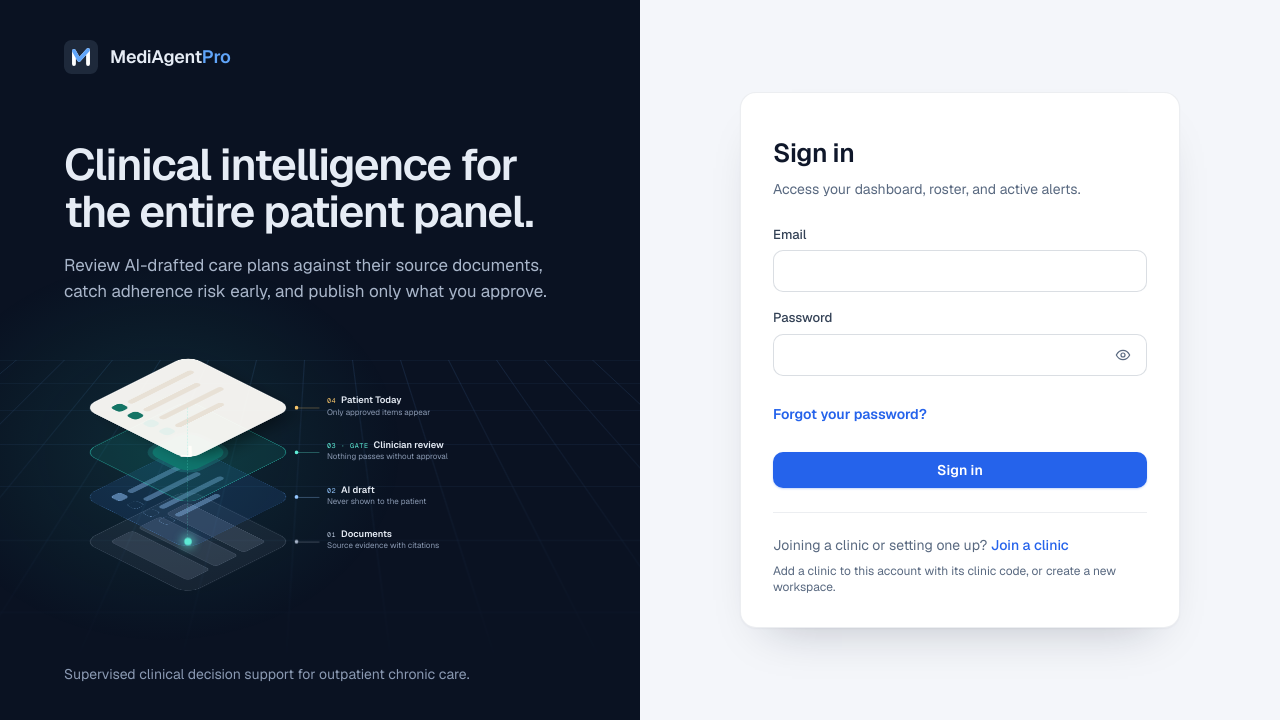
Test: Clinician login page › keeps the user on the sign-in form for invalid credentials
This screenshot has width=1280, height=720.
Type "doctor@example.com" into the field labelled "Email". click: (960, 271)
box: [773,250,1147,292]
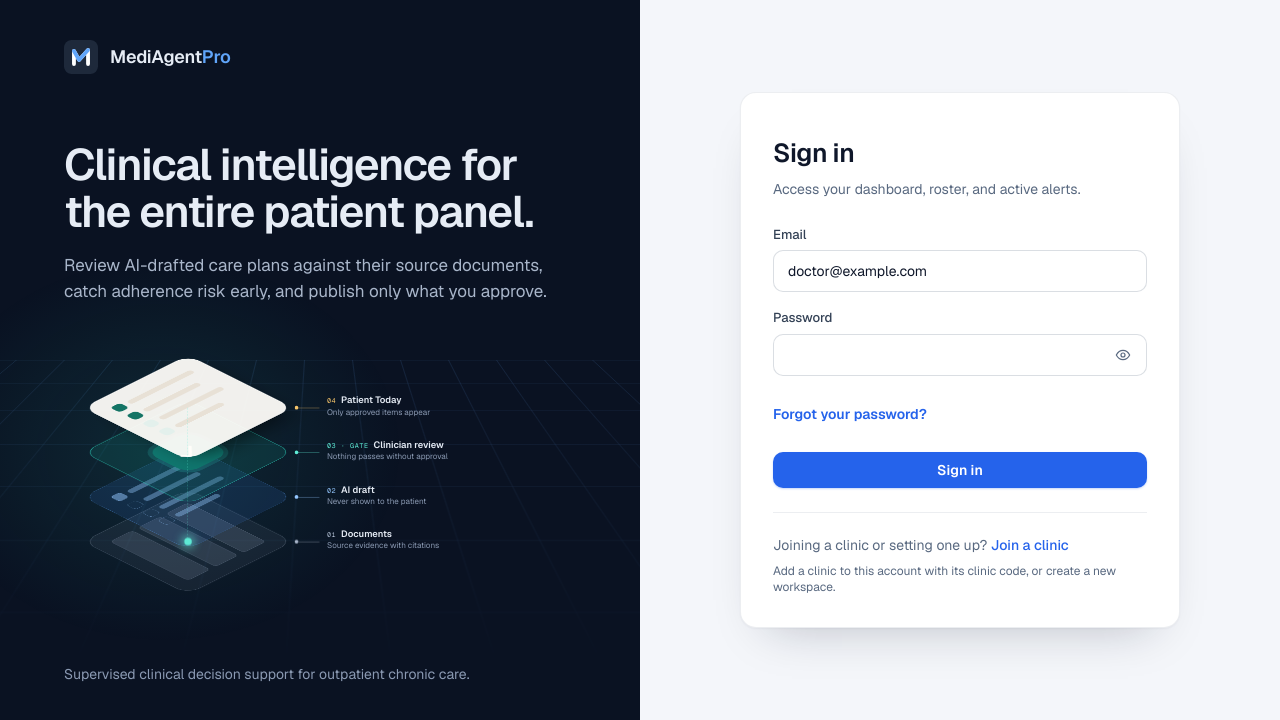
Type "wrong-password" into the password field labelled "Password". click: (960, 355)
box: [773,334,1147,376]
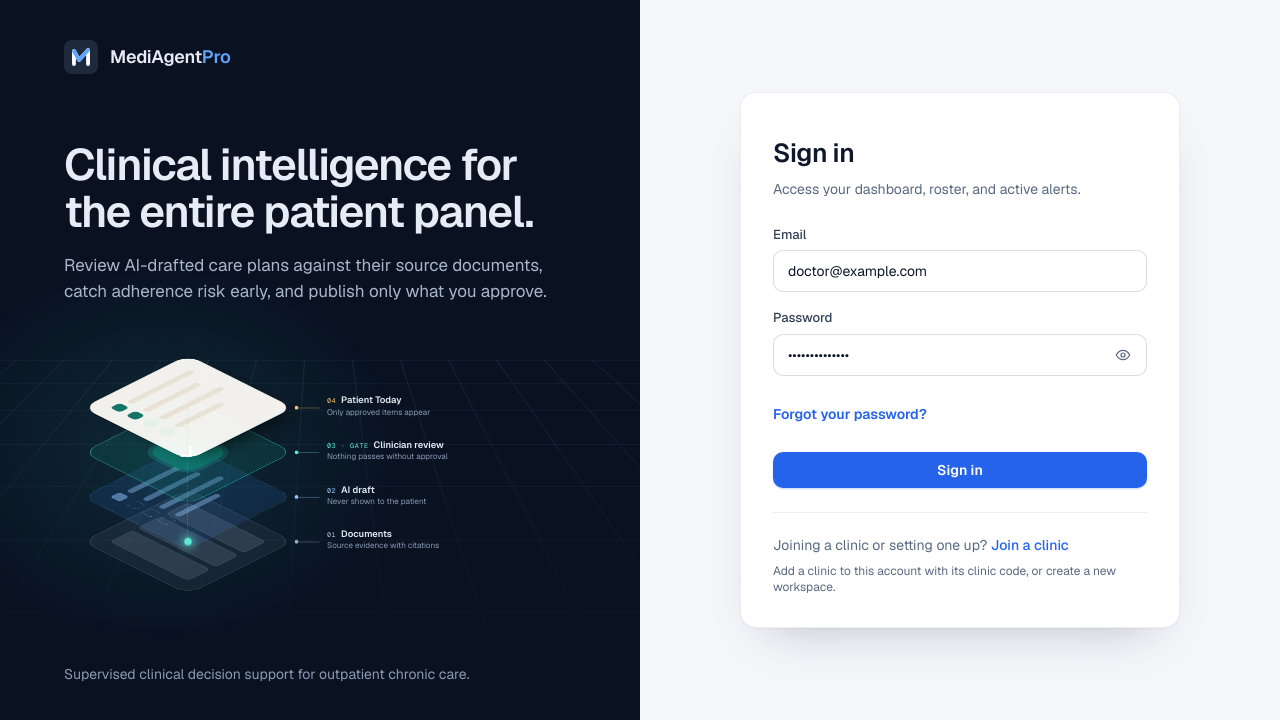
Click the button "Sign in". click: click(960, 470)
box: [773,452,1147,488]
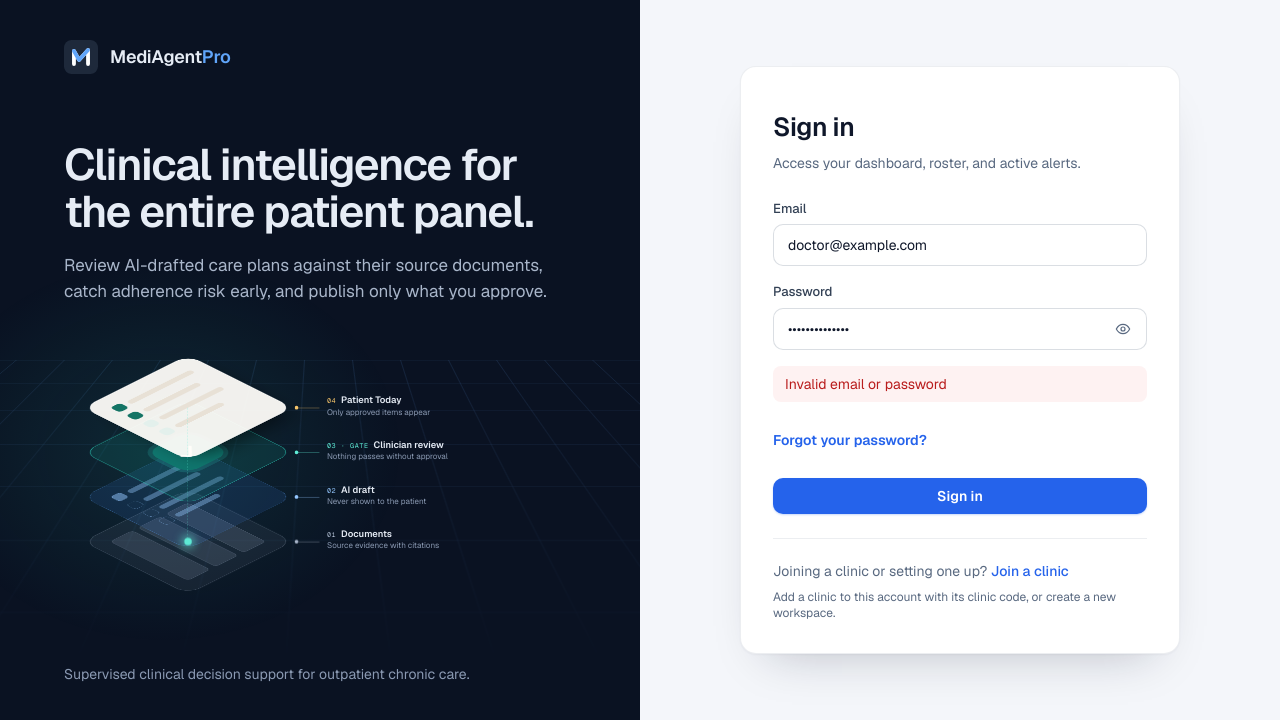
Check: the heading "Sign in" is shown, box [773,110,854,144]
Check: the text "Invalid email or password" is shown, box [773,366,1147,402]
